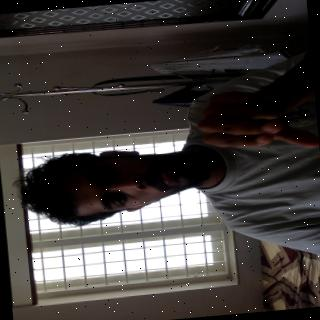No: (172, 69, 311, 170)
